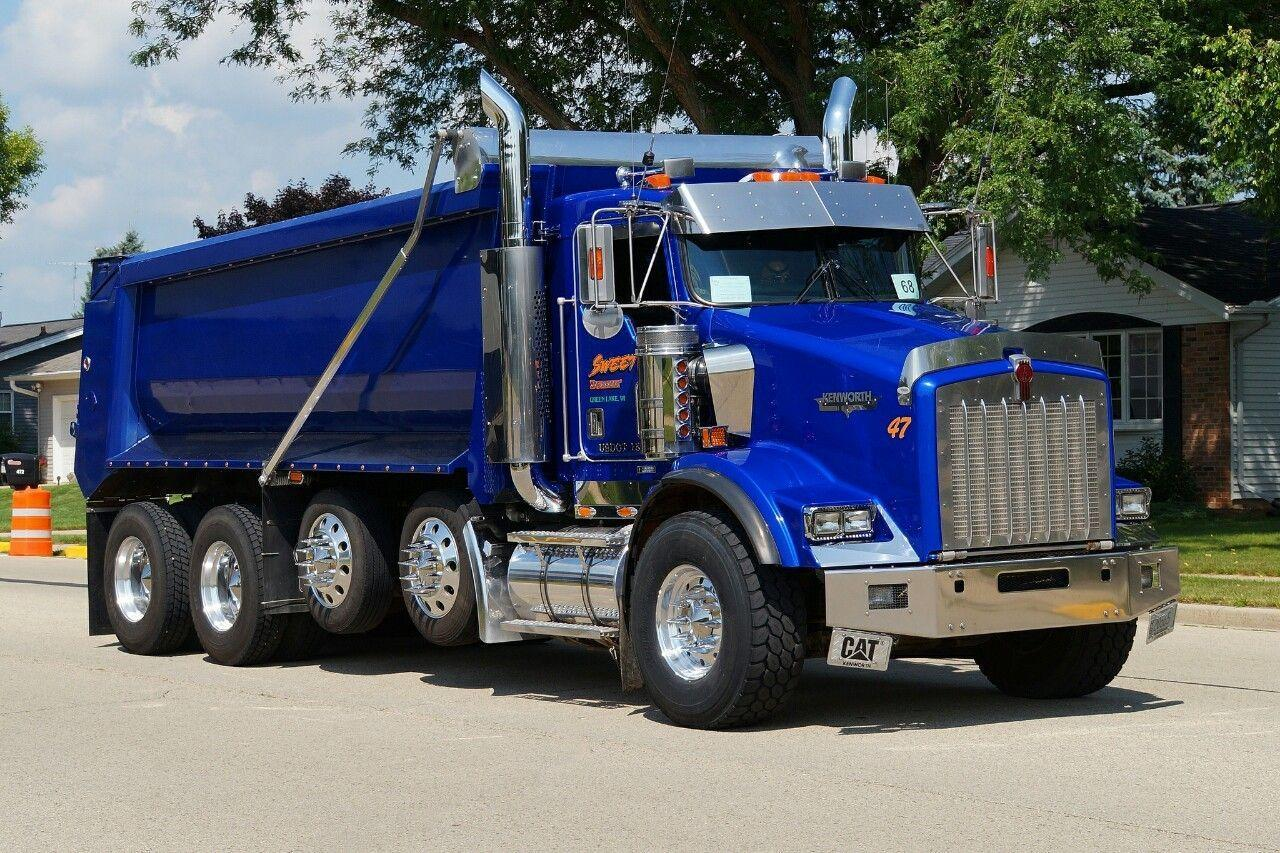truck: (80, 139, 1212, 708)
